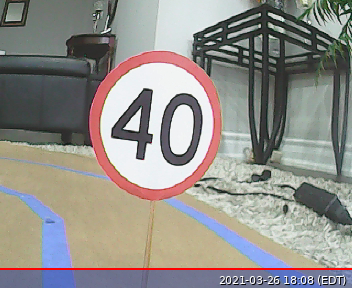Speed Limit 40: (87, 50, 222, 200)
